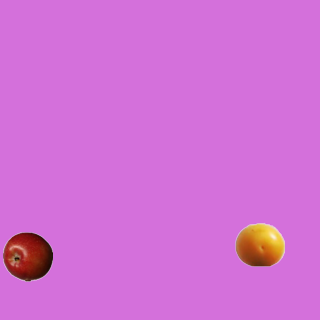Apple Braeburn: (2, 231, 52, 281)
Cherry Wax Yellow: (234, 219, 284, 269)
